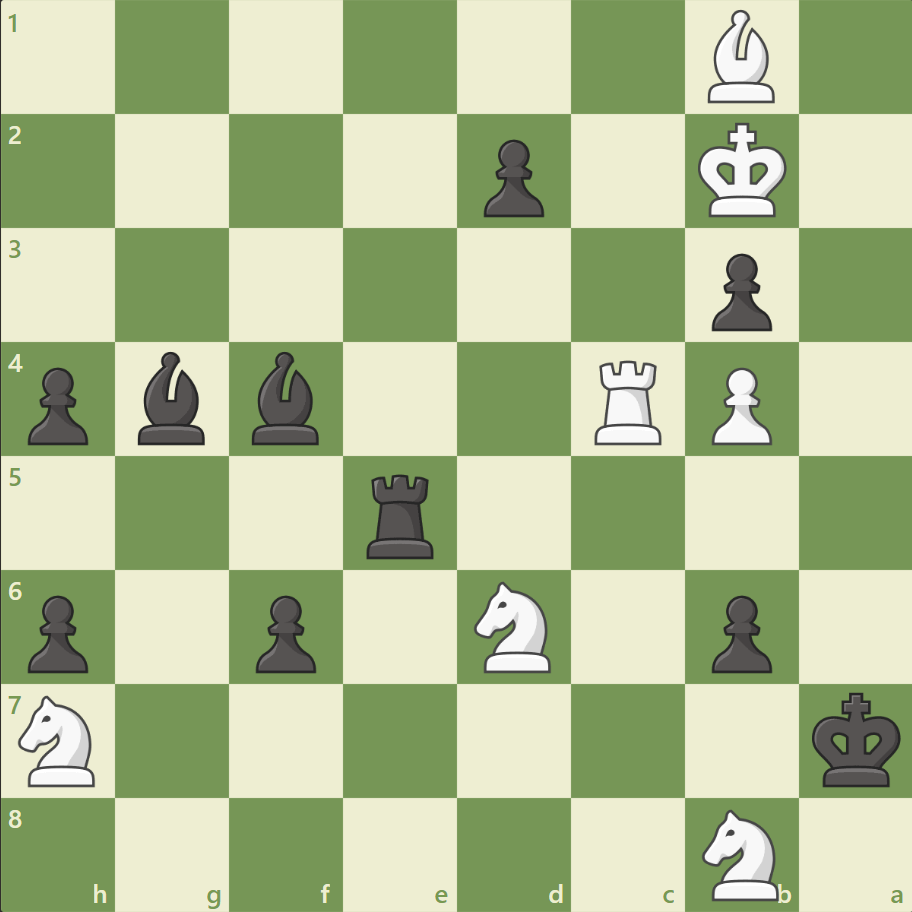B: (698, 6, 782, 109)
K: (692, 117, 792, 225)
N: (11, 688, 108, 791), (692, 802, 789, 904), (465, 575, 562, 677)
P: (701, 359, 776, 450)
R: (587, 352, 670, 449)
b: (244, 347, 328, 449), (131, 347, 215, 449)
k: (806, 685, 906, 793)
p: (701, 586, 776, 677), (247, 586, 322, 677), (20, 586, 95, 677), (20, 359, 95, 450), (701, 246, 776, 337), (474, 132, 549, 223)
r: (360, 466, 442, 563)
